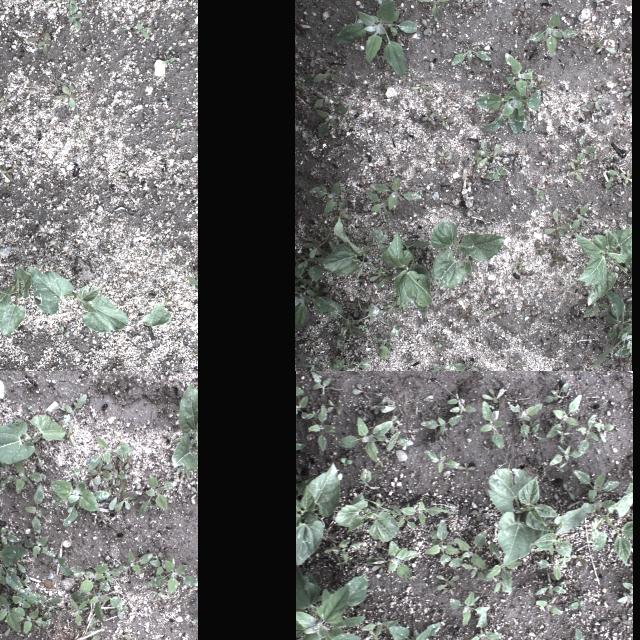crop: (488, 468, 558, 566), (30, 267, 128, 333), (429, 220, 506, 290), (378, 229, 434, 319), (572, 225, 632, 305), (296, 458, 340, 566), (320, 214, 388, 280), (0, 414, 65, 474), (582, 491, 632, 567), (532, 504, 588, 556), (333, 500, 401, 542), (170, 382, 198, 469), (0, 264, 29, 339), (140, 290, 172, 328)
weed: (329, 0, 417, 77), (296, 566, 369, 640), (295, 227, 341, 326), (582, 290, 632, 368), (50, 468, 110, 526), (329, 298, 385, 354), (474, 88, 542, 134), (334, 418, 392, 464), (89, 460, 138, 512), (526, 12, 580, 56), (365, 540, 419, 582), (70, 585, 124, 625), (0, 511, 25, 592), (145, 558, 198, 596), (486, 540, 522, 594), (138, 472, 178, 518), (368, 176, 422, 210), (86, 433, 130, 472), (501, 52, 541, 94), (447, 529, 488, 569), (424, 520, 458, 568), (546, 394, 582, 438), (449, 592, 491, 628), (0, 461, 45, 494), (72, 564, 121, 594), (574, 470, 622, 500), (305, 405, 335, 451), (308, 180, 348, 214), (508, 400, 542, 438), (462, 611, 504, 640), (481, 399, 505, 448), (23, 485, 47, 533), (316, 104, 348, 138), (387, 621, 442, 640), (373, 322, 399, 362), (62, 394, 88, 434), (10, 607, 50, 633), (536, 547, 570, 577), (449, 44, 491, 68), (8, 588, 36, 624), (25, 592, 63, 618), (402, 502, 444, 524), (576, 412, 598, 453), (473, 139, 503, 169), (328, 540, 362, 566), (118, 552, 154, 576), (0, 594, 21, 634), (420, 415, 462, 435), (75, 110, 92, 158), (22, 535, 56, 559), (310, 372, 344, 396), (424, 448, 458, 472), (543, 210, 571, 238), (541, 380, 571, 406), (534, 572, 566, 596), (415, 0, 450, 21), (26, 27, 54, 53), (52, 81, 76, 111), (364, 192, 394, 216), (581, 94, 605, 124), (358, 618, 398, 636), (549, 446, 583, 466), (391, 504, 415, 530), (576, 136, 598, 164), (310, 66, 344, 84), (447, 394, 477, 414), (324, 358, 369, 371), (50, 556, 76, 578), (384, 432, 414, 451), (352, 469, 371, 499), (461, 562, 489, 582), (567, 626, 607, 640), (149, 556, 173, 578), (313, 93, 339, 113), (102, 468, 130, 486), (368, 396, 396, 414), (368, 269, 392, 289), (448, 361, 496, 371), (532, 600, 562, 616), (483, 165, 509, 183), (572, 204, 590, 230), (436, 574, 462, 592), (66, 12, 86, 34), (481, 386, 505, 404), (352, 382, 374, 401), (70, 600, 86, 626), (430, 502, 458, 516), (134, 22, 154, 40), (109, 600, 127, 620), (85, 616, 100, 640), (597, 422, 615, 442), (612, 609, 632, 627), (529, 418, 545, 440), (303, 356, 326, 371), (0, 526, 18, 545), (409, 80, 433, 94), (186, 270, 198, 297), (568, 594, 586, 612), (490, 580, 510, 596), (424, 362, 459, 371), (160, 257, 174, 279), (366, 498, 388, 512), (162, 56, 180, 72), (294, 74, 312, 90), (326, 398, 342, 416), (472, 506, 490, 522), (595, 41, 617, 54), (53, 324, 73, 338), (569, 162, 583, 182), (12, 554, 26, 574), (296, 477, 310, 497), (607, 168, 619, 190), (297, 396, 309, 418), (534, 242, 554, 255), (31, 447, 44, 467), (437, 114, 453, 130), (419, 112, 437, 126), (561, 482, 575, 500), (177, 466, 197, 478), (66, 422, 76, 446), (457, 463, 477, 475), (175, 118, 191, 132), (1, 162, 13, 180), (570, 553, 588, 565), (402, 426, 418, 439), (625, 468, 633, 494), (421, 20, 435, 34), (400, 488, 414, 502), (114, 162, 126, 178), (512, 261, 528, 273), (0, 93, 11, 110), (435, 150, 453, 160), (622, 576, 632, 594), (527, 630, 545, 640), (370, 566, 388, 576), (534, 185, 544, 202), (16, 106, 28, 120), (165, 213, 177, 227), (88, 36, 98, 52), (154, 222, 164, 238), (554, 462, 568, 473), (189, 484, 198, 501), (194, 176, 198, 213), (66, 0, 78, 12), (90, 509, 102, 521), (98, 513, 109, 525), (484, 308, 500, 316), (558, 429, 566, 445), (616, 595, 632, 603), (620, 174, 632, 184), (339, 456, 351, 466), (191, 294, 198, 311), (166, 44, 174, 58), (122, 633, 138, 640), (124, 456, 132, 470), (442, 472, 450, 486), (296, 468, 304, 482), (363, 633, 379, 640), (375, 457, 385, 468), (506, 359, 515, 371), (390, 415, 396, 433), (151, 595, 161, 605), (306, 409, 316, 419), (116, 112, 128, 120), (440, 590, 456, 596), (335, 559, 343, 571), (481, 446, 492, 454), (454, 0, 483, 3), (433, 340, 442, 348), (561, 580, 573, 586), (553, 364, 563, 371), (38, 10, 46, 18), (26, 404, 34, 412), (296, 443, 304, 451), (573, 368, 594, 371), (297, 386, 303, 396), (158, 589, 165, 597), (489, 402, 495, 410), (16, 217, 20, 227), (172, 600, 180, 604), (138, 548, 144, 552), (82, 638, 87, 640)
